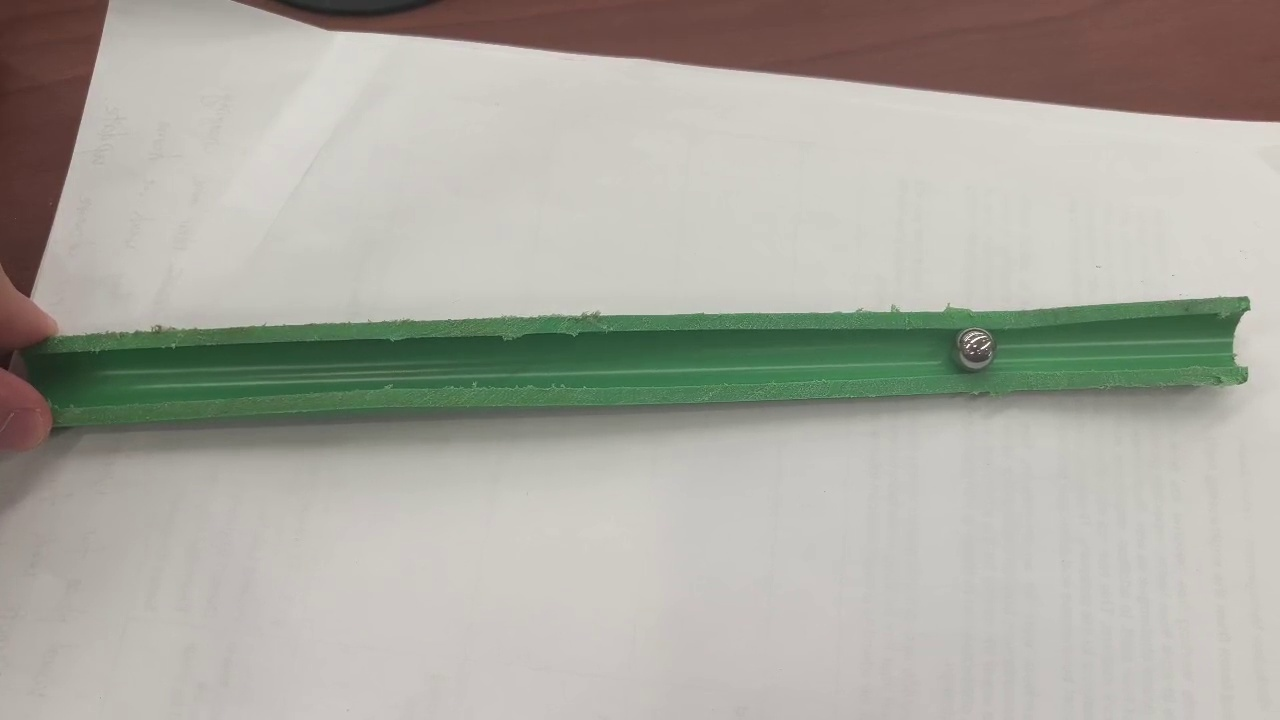ball: (957, 328, 994, 370)
